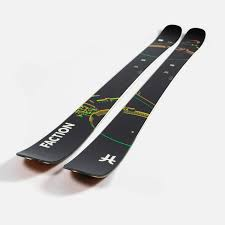skis: (16, 23, 207, 180)
